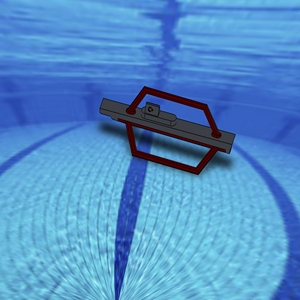submarine: (90, 66, 244, 189)
